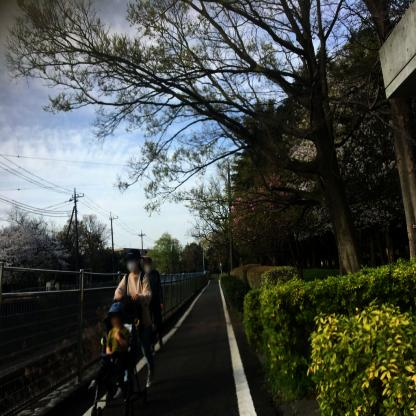Someiyoshino: (275, 72, 407, 246), (1, 198, 80, 290)
